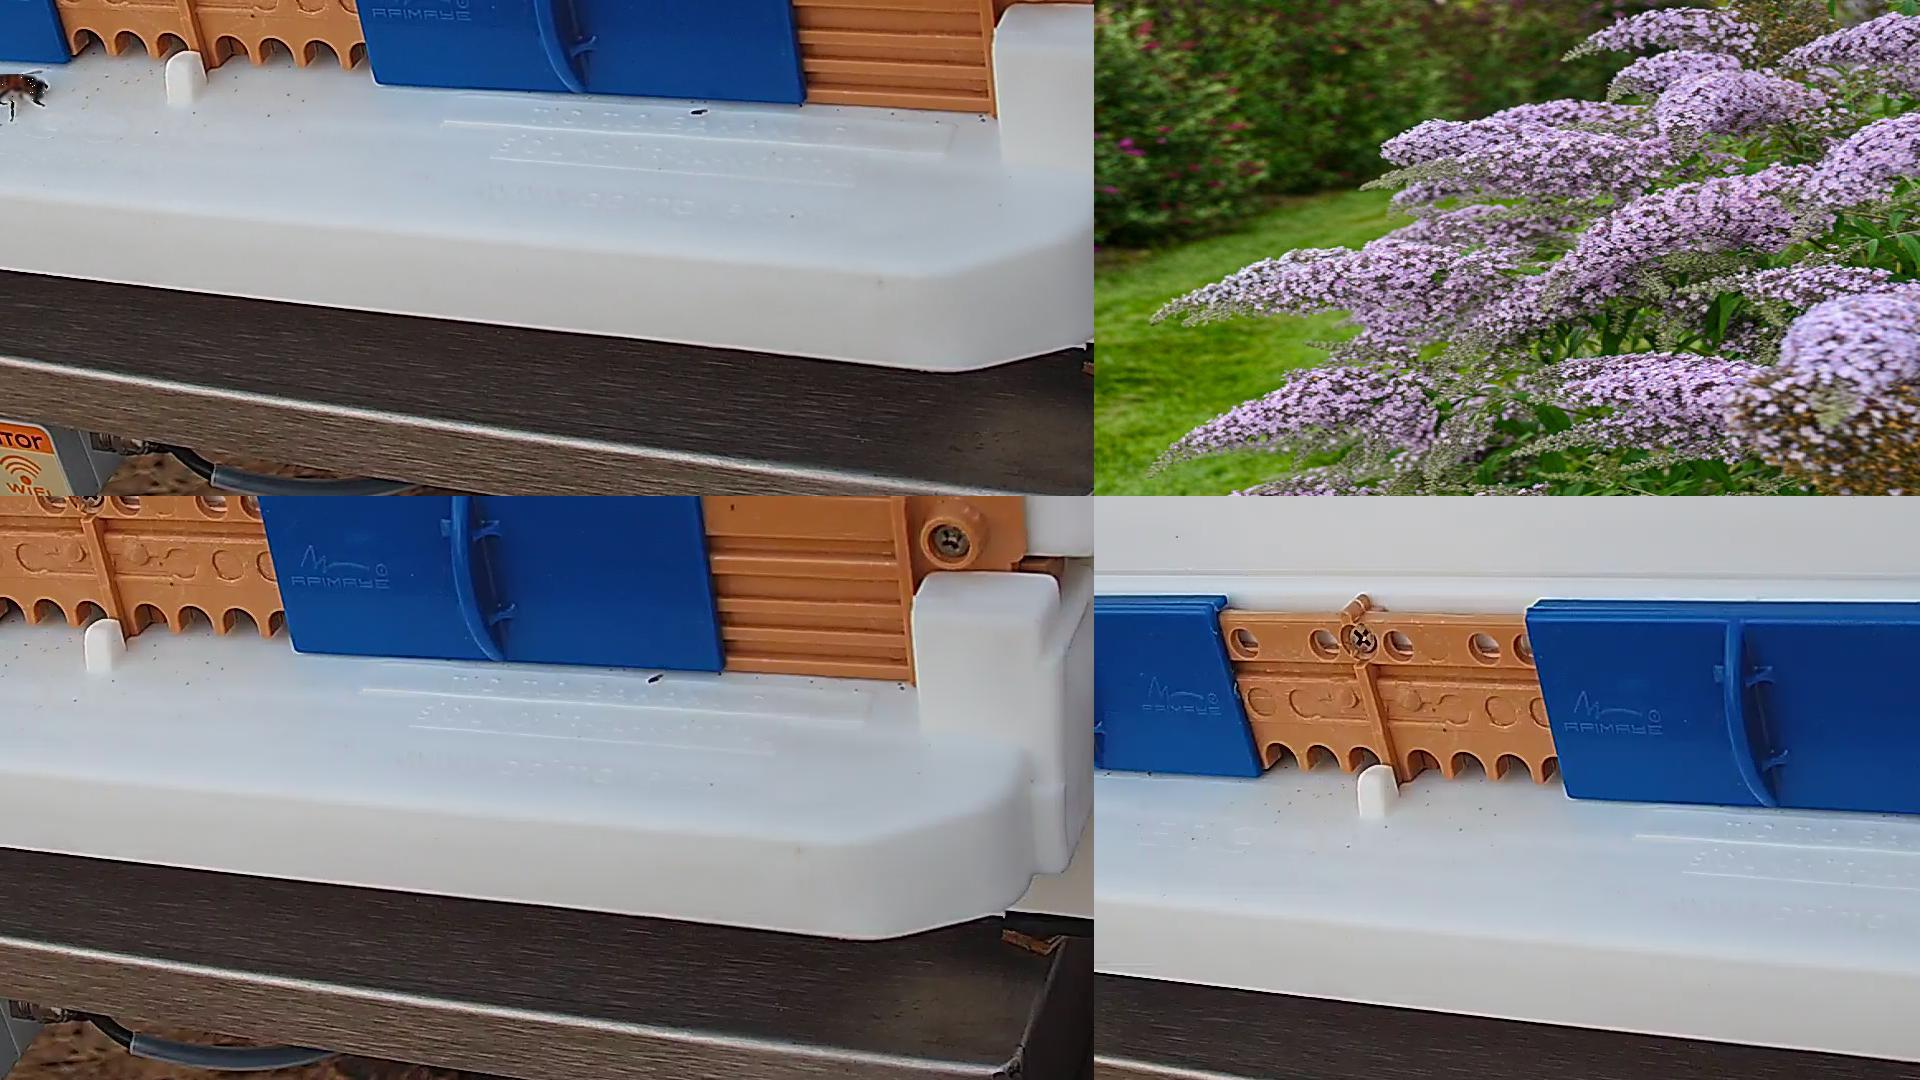bee: (0, 74, 47, 104)
